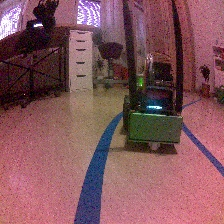rob: (121, 60, 183, 151)
